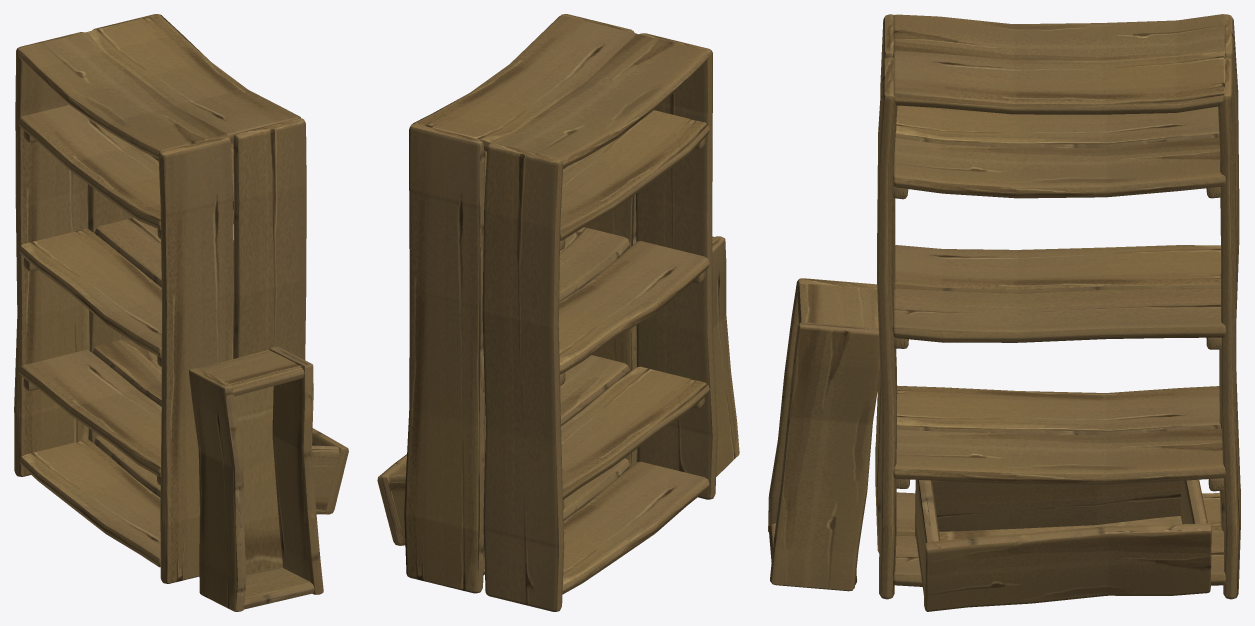
File: maya2sketchfab.fbx
3 views of the same model, side by side, from view 1: azimuth 30°, elevation 25°; view 2: azimuth 150°, elevation 25°; view 3: azimuth 270°, elevation 25° (orthographic). The views are drawn at different scales.
Parts seen in each view (by area): view 1: polySurface28, polySurface17, polySurface18, polySurface10, polySurface32, polySurface9, polySurface25, polySurface23, polySurface24, polySurface33, polySurface21, polySurface29 (+8 smaller); view 2: polySurface17, polySurface16, polySurface28, polySurface10, polySurface9, polySurface25, polySurface24, polySurface23, polySurface21, polySurface32, polySurface27, polySurface18 (+4 smaller); view 3: polySurface33, polySurface15, polySurface9, polySurface27, polySurface22, polySurface20, polySurface25, polySurface24, polySurface10, polySurface21, polySurface14, polySurface18 (+10 smaller).
Boxes of the visible parts, x1=… form: polySurface28: x1=158, y1=136, x2=234, y2=583; polySurface17: x1=14, y1=32, x2=89, y2=476; polySurface18: x1=233, y1=118, x2=306, y2=359; polySurface10: x1=18, y1=32, x2=233, y2=158; polySurface32: x1=189, y1=368, x2=246, y2=611; polySurface9: x1=88, y1=14, x2=300, y2=143; polySurface25: x1=19, y1=229, x2=161, y2=357; polySurface23: x1=19, y1=439, x2=160, y2=567; polySurface24: x1=18, y1=350, x2=161, y2=476; polySurface33: x1=269, y1=346, x2=323, y2=594; polySurface21: x1=18, y1=105, x2=160, y2=229; polySurface29: x1=197, y1=386, x2=282, y2=575; polySurface17: x1=482, y1=143, x2=564, y2=611; polySurface16: x1=404, y1=123, x2=485, y2=593; polySurface28: x1=636, y1=33, x2=717, y2=499; polySurface10: x1=485, y1=34, x2=708, y2=168; polySurface9: x1=413, y1=15, x2=636, y2=151; polySurface25: x1=558, y1=241, x2=709, y2=374; polySurface24: x1=561, y1=366, x2=709, y2=499; polySurface23: x1=562, y1=461, x2=709, y2=594; polySurface21: x1=560, y1=110, x2=709, y2=240; polySurface32: x1=712, y1=236, x2=739, y2=476; polySurface27: x1=559, y1=227, x2=629, y2=301; polySurface18: x1=560, y1=14, x2=637, y2=468; polySurface33: x1=770, y1=322, x2=880, y2=591; polySurface15: x1=924, y1=523, x2=1211, y2=611; polySurface9: x1=892, y1=51, x2=1226, y2=114; polySurface27: x1=892, y1=288, x2=1226, y2=342; polySurface22: x1=893, y1=428, x2=1225, y2=484; polySurface20: x1=892, y1=137, x2=1225, y2=198; polySurface25: x1=894, y1=245, x2=1220, y2=293; polySurface24: x1=897, y1=385, x2=1220, y2=435; polySurface10: x1=893, y1=14, x2=1226, y2=60; polySurface21: x1=895, y1=105, x2=1219, y2=148; polySurface14: x1=915, y1=479, x2=1181, y2=539; polySurface18: x1=877, y1=57, x2=897, y2=599.
Bounding box in the file's own units: 0.8442 × 1.71 × 1.42.
12 materials, 12 textured.
